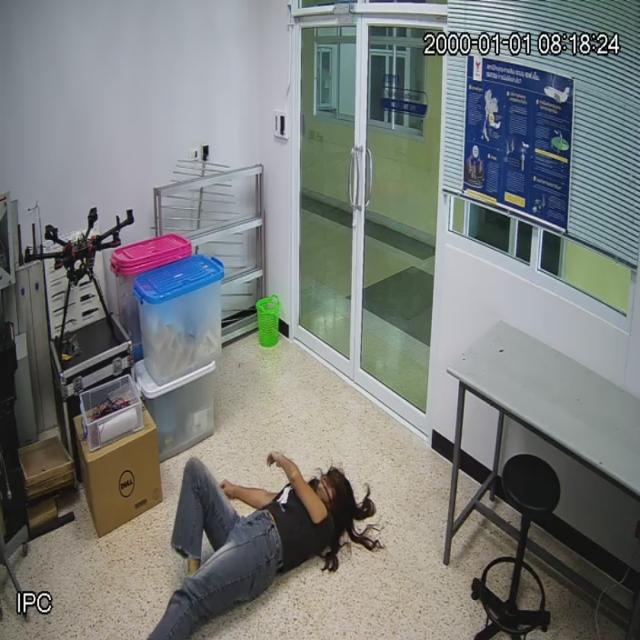fall: (149, 453, 357, 640)
